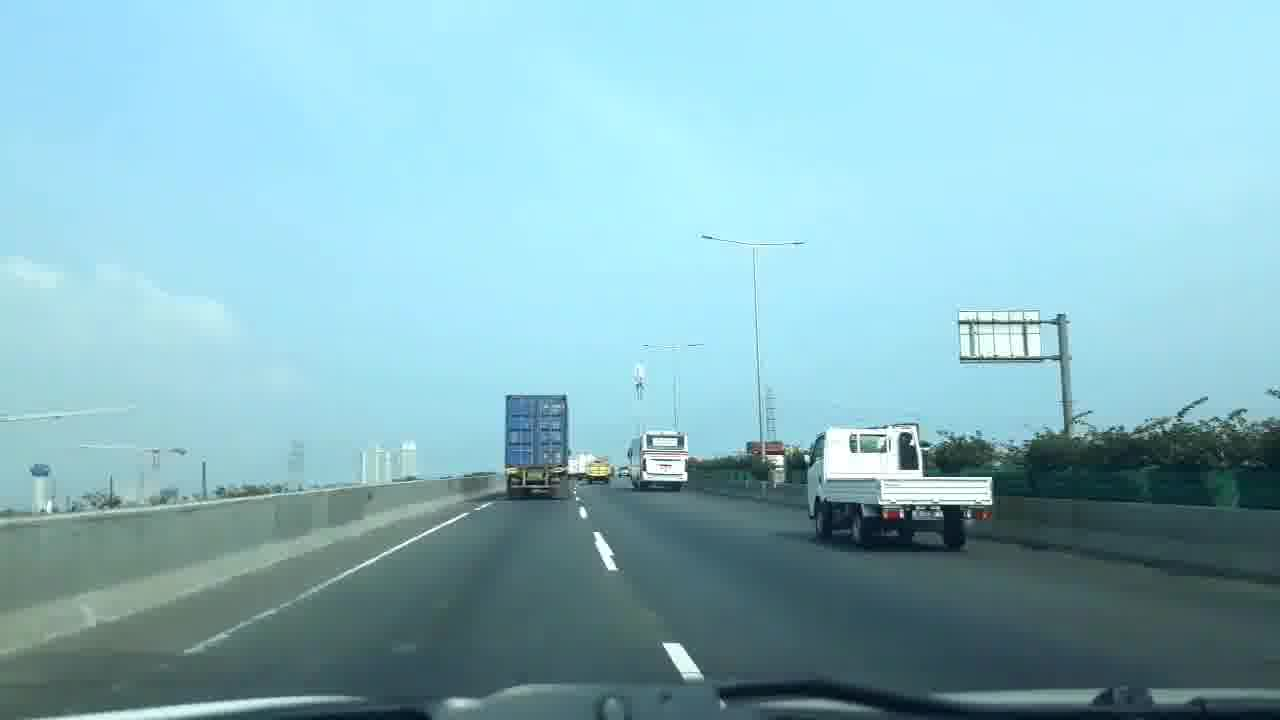plate_positive: (911, 509, 944, 521)
